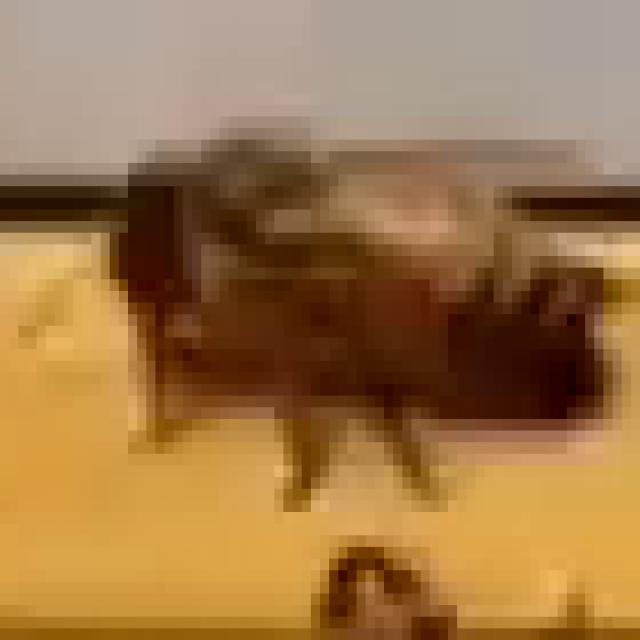honeybee: (73, 101, 639, 512)
